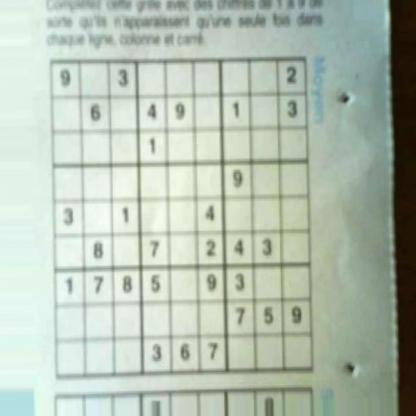sudoku: (47, 55, 322, 382)
